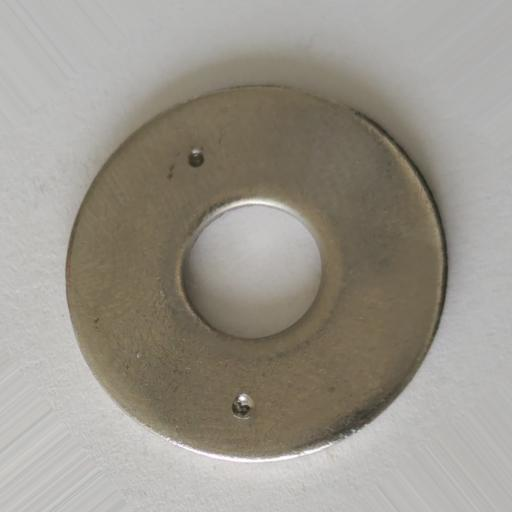circular_cavity: (229, 394, 255, 420), (188, 148, 204, 167)
